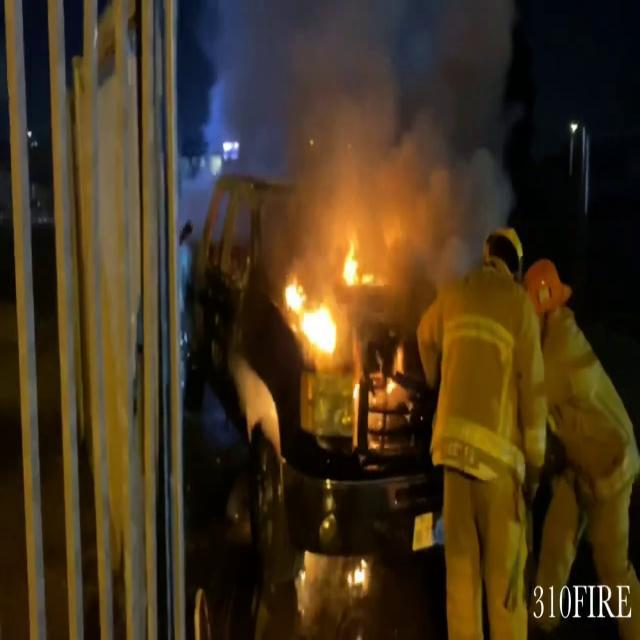Fire: (282, 231, 370, 364), (282, 272, 344, 364)
Smoke: (191, 0, 515, 246)
